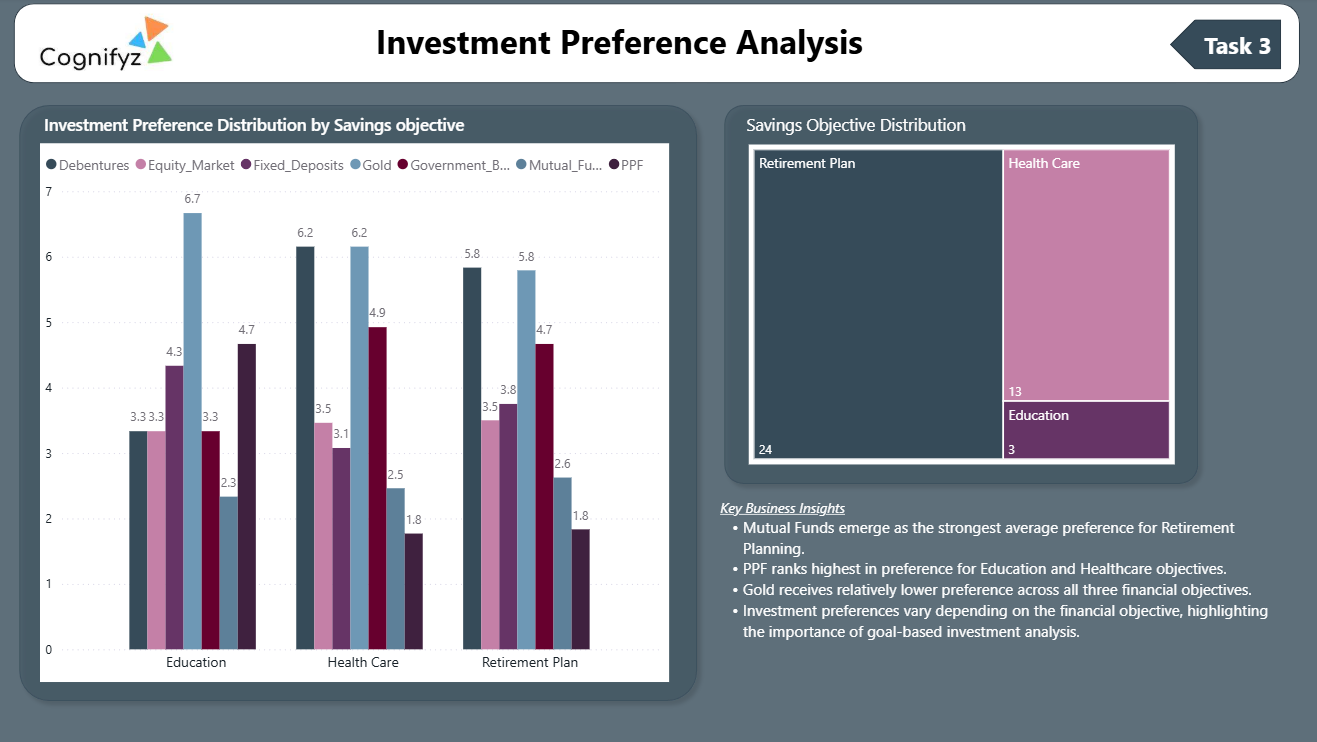

This screenshot's page, from the dashboard's own definition file:
{"tool":"powerbi","page":{"name":"  Task 3","canvas":[1280,720],"ordinal":2},"visuals":[{"type":"shape","box":[15,95.3,672.1,593.1],"z":1000},{"type":"shape","box":[694.9,95.3,475.3,383.6],"z":2000},{"type":"shape","box":[18.1,6,1241.4,77.2],"z":5000},{"type":"textbox","box":[307.6,15.7,589.9,59.1],"z":6000},{"type":"image","box":[42.2,9.7,130.3,70],"z":7000},{"type":"shape","box":[1134.1,21.7,107.4,48.3],"z":8000},{"type":"textbox","box":[720.2,107.4,317.3,35],"z":23000},{"type":"textbox","box":[42.6,107.8,505.3,33.9],"z":24000},{"type":"clusteredColumnChart","fields":{"Category":["Reference.Savings_objectives"],"Y":["Measure.Average Preference Rank"],"Series":["Reference.Investment_type"]},"box":[43.9,141.7,606.9,520.4],"z":25000},{"type":"treemap","fields":{"Group":["Data_set 2.Savings_objectives"],"Values":["Measure.Total Respondents"]},"box":[727.5,142.4,411.4,308.8],"z":26000},{"type":"textbox","box":[694.9,479,546.5,182.2],"z":26001}]}

Visuals, with their boxes in screenshot pixels (x1, y1, x2, y2), scaled from the page's 1280x720 canvas onto the 1317x742 screenshot:
shape: [x1=15, y1=98, x2=707, y2=709]
shape: [x1=715, y1=98, x2=1204, y2=494]
shape: [x1=19, y1=6, x2=1296, y2=86]
textbox: [x1=316, y1=16, x2=923, y2=77]
image: [x1=43, y1=10, x2=177, y2=82]
shape: [x1=1167, y1=22, x2=1277, y2=72]
textbox: [x1=741, y1=111, x2=1067, y2=147]
textbox: [x1=44, y1=111, x2=564, y2=146]
clusteredColumnChart - Reference.Savings_objectives x Measure.Average Preference Rank: [x1=45, y1=146, x2=670, y2=682]
treemap - Data_set 2.Savings_objectives x Measure.Total Respondents: [x1=749, y1=147, x2=1172, y2=465]
textbox: [x1=715, y1=494, x2=1277, y2=681]
